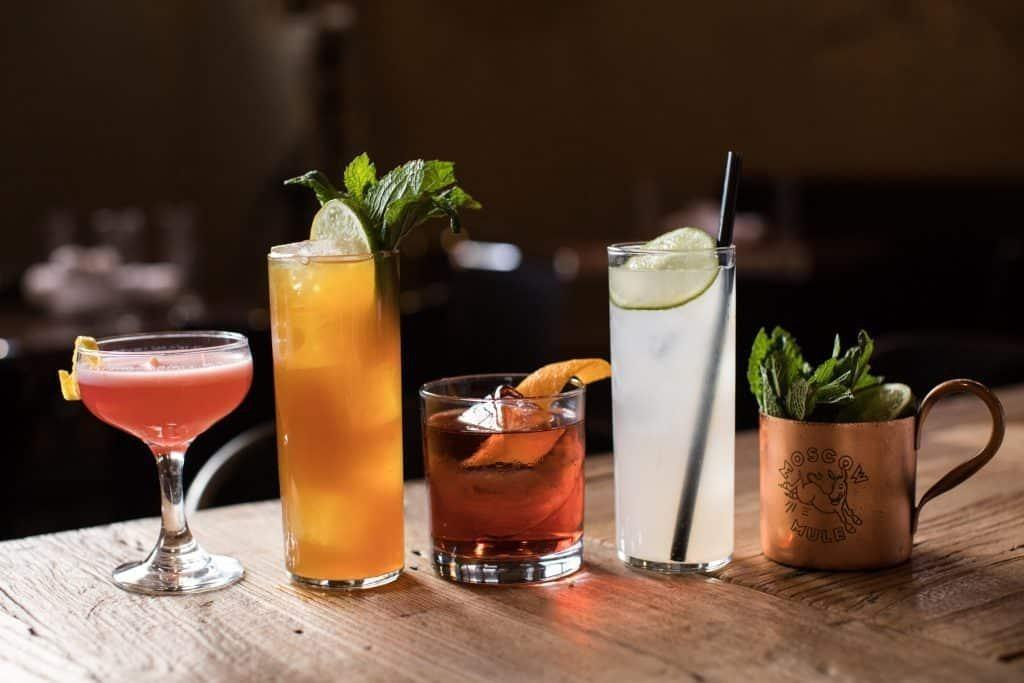cup-handle: (756, 376, 1007, 574)
glass-normal: (268, 239, 408, 594), (606, 234, 738, 577), (421, 373, 589, 586)
glass-wine: (73, 333, 254, 596)
